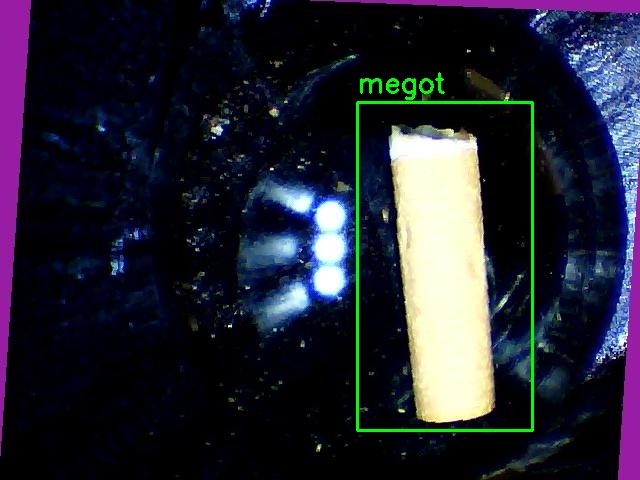megot: (357, 102, 532, 430)
